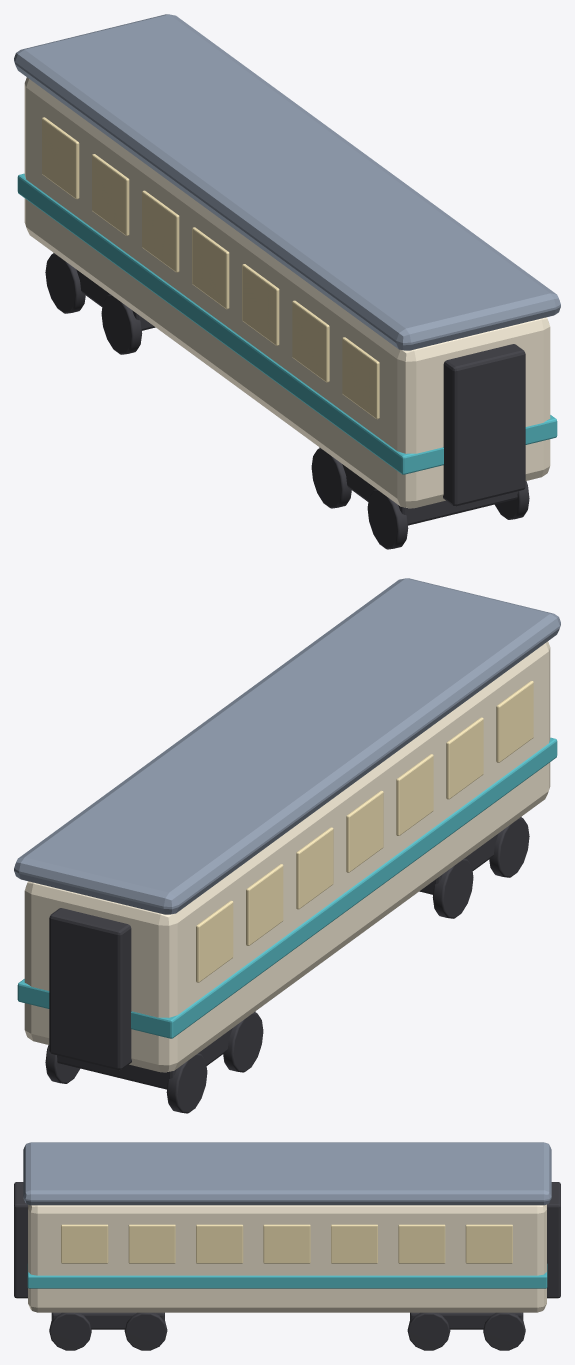
File: train_coach.fbx
3 renders of one model, top to bottom at view 1: azimuth 30°, elevation 25°; view 2: azimuth 150°, elevation 25°; view 3: azimuth 270°, elevation 25°, orthographic. The views are drawn at different scales.
Visible parts, largest first — view 1: Visual; view 2: Visual; view 3: Visual.
Boxes of the visible parts, x1,y1,x2,y2 form: Visual: (14,14,560,549); Visual: (14,578,560,1113); Visual: (14,1142,560,1350).
Size of the model in its own units: 270 by 381 by 1160.
